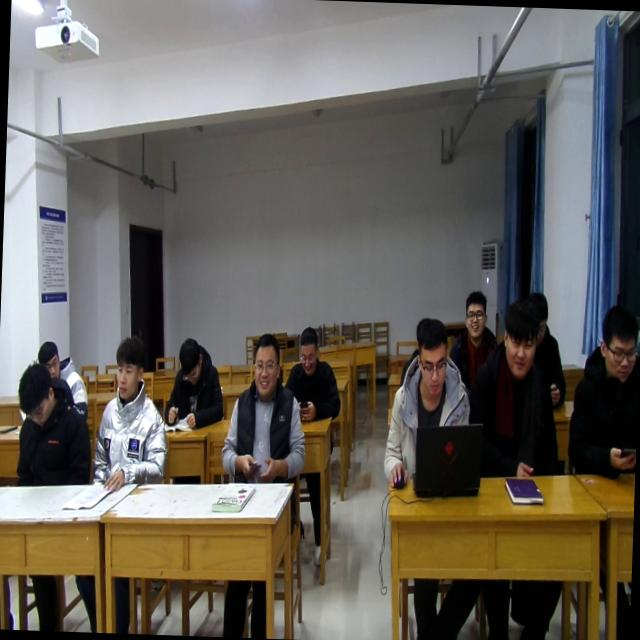down: (593, 300, 639, 386), (408, 316, 452, 398), (13, 362, 54, 429), (175, 333, 206, 388), (294, 324, 324, 378), (530, 284, 552, 338)
lookup: (496, 297, 540, 381), (108, 334, 150, 406), (245, 330, 282, 400), (458, 288, 491, 338)
sit: (466, 299, 564, 478), (382, 317, 477, 492), (221, 332, 309, 486), (90, 336, 172, 498), (569, 302, 640, 478), (13, 362, 95, 487), (445, 289, 501, 409), (516, 287, 571, 408), (284, 323, 342, 424), (162, 337, 225, 428), (34, 338, 91, 423)
